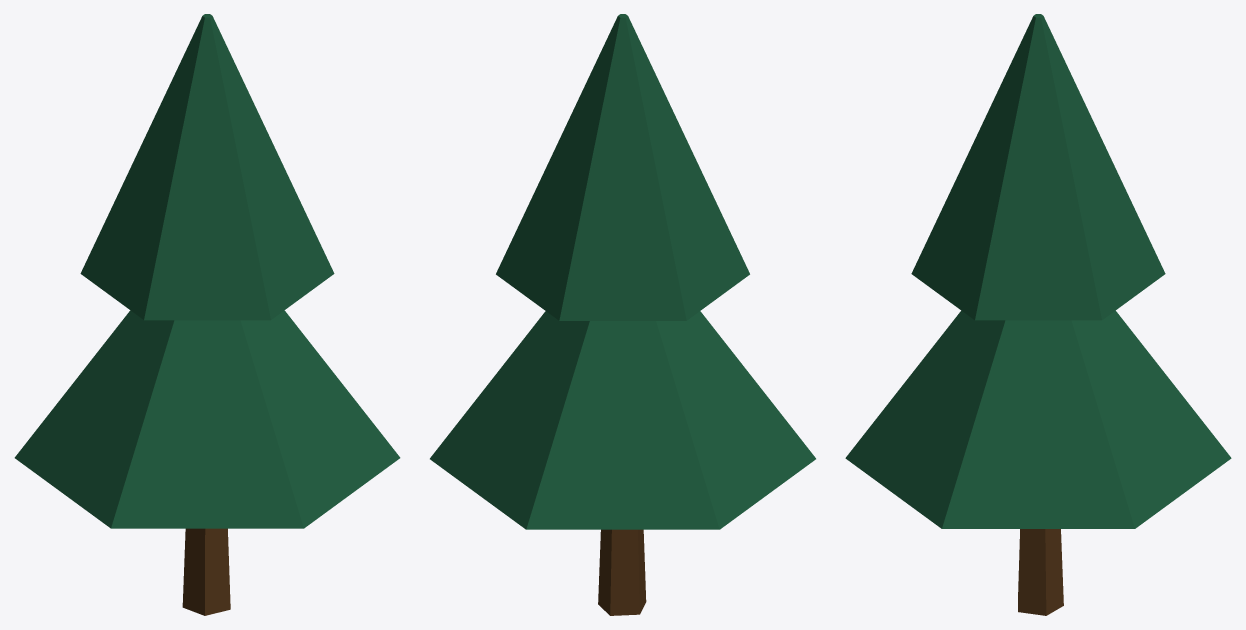
Rendered from tree_pine_lod1.glb.
The picture shows the model from 3 angles, left to right: view 1: azimuth 30°, elevation 25°; view 2: azimuth 150°, elevation 25°; view 3: azimuth 270°, elevation 25°; orthographic projection.
Parts seen in each view (by area): view 1: leaf, wood; view 2: leaf, wood; view 3: leaf, wood.
Boxes of the visible parts, box(x1,y1,x2,y2) form: leaf: box(14, 14, 400, 528); wood: box(182, 528, 230, 615); leaf: box(430, 14, 815, 529); wood: box(598, 529, 646, 615); leaf: box(845, 14, 1231, 528); wood: box(1018, 529, 1063, 615).
Bounding box in the file's own units: 3.29 × 6.4 × 3.8.
